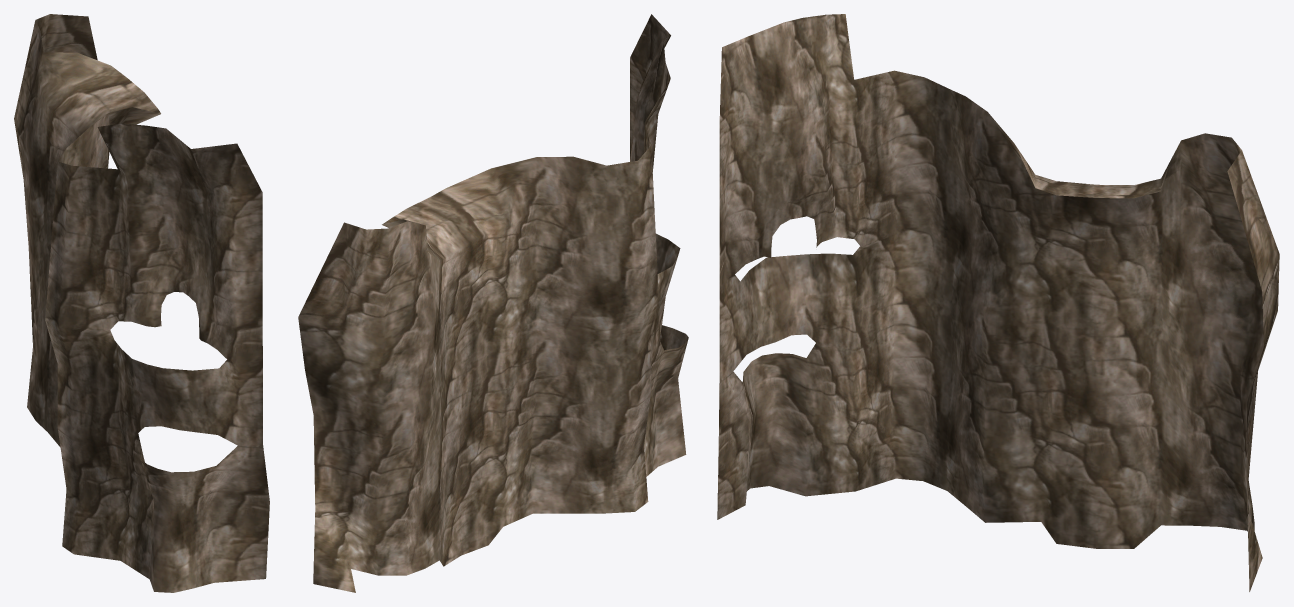
The model's file is EKH_ENTRANCE_PS_EN_WALL0001.fbx.
3 renders of one model, left to right at view 1: azimuth 30°, elevation 25°; view 2: azimuth 150°, elevation 25°; view 3: azimuth 270°, elevation 25°, orthographic. The views are drawn at different scales.
Parts seen in each view (by area): view 1: EKH_ENTRANCE_PS_EN_WALL0001; view 2: EKH_ENTRANCE_PS_EN_WALL0001; view 3: EKH_ENTRANCE_PS_EN_WALL0001.
Boxes of the visible parts, bbox=[...] form: EKH_ENTRANCE_PS_EN_WALL0001: bbox=[14, 14, 269, 592]; EKH_ENTRANCE_PS_EN_WALL0001: bbox=[298, 14, 688, 592]; EKH_ENTRANCE_PS_EN_WALL0001: bbox=[717, 14, 1279, 591].
Bounding box in the file's own units: 101071 × 206918 × 214658.
1 material, 1 textured.
